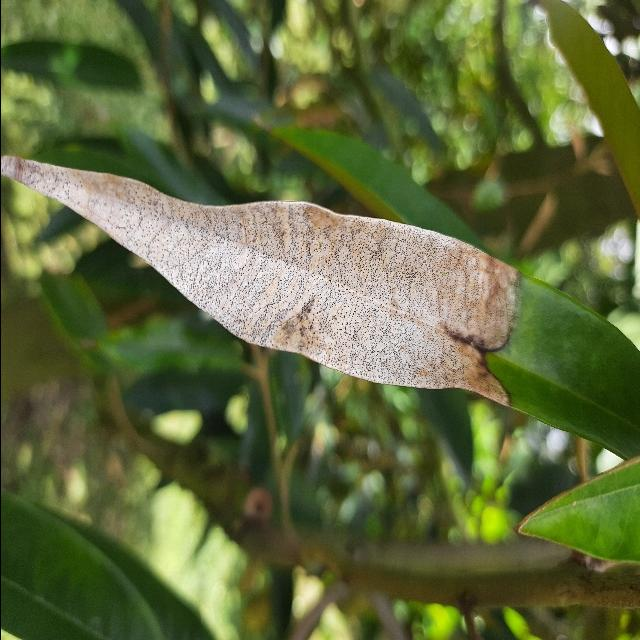Leaf Blight: (0, 146, 640, 467)
